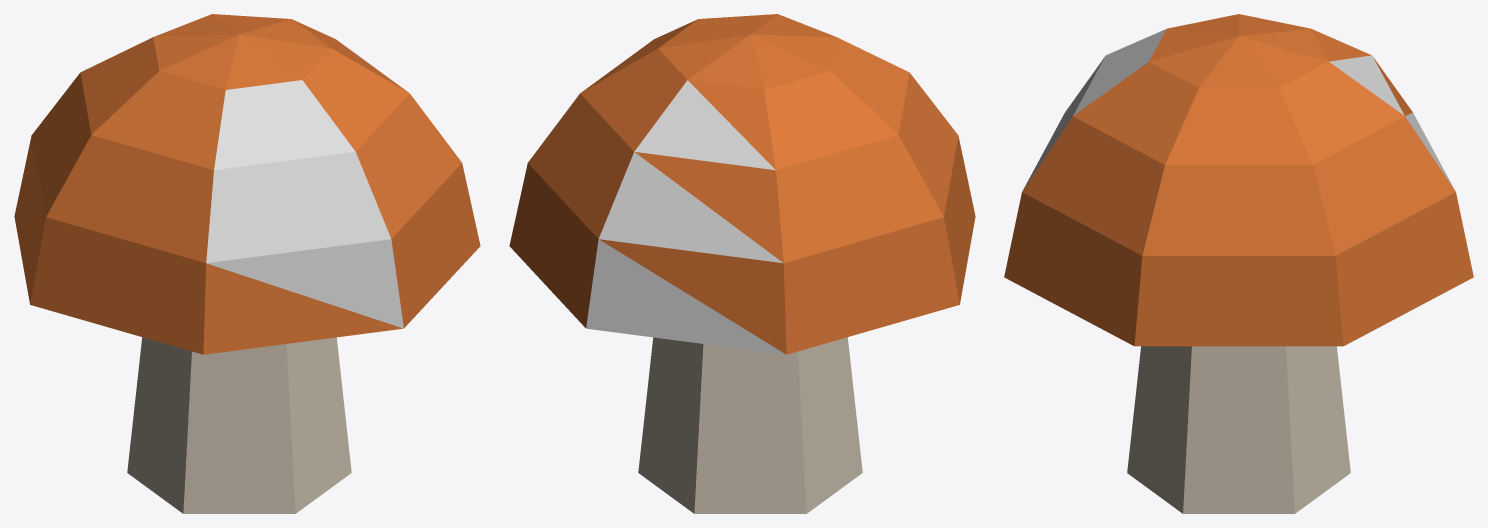
The model's file is biome-orchard-mushroom.glb.
The picture shows the model from 3 angles, left to right: view 1: azimuth 30°, elevation 25°; view 2: azimuth 150°, elevation 25°; view 3: azimuth 270°, elevation 25°; orthographic projection.
Bounding box in the file's own units: 0.5323 × 0.56 × 0.546.
